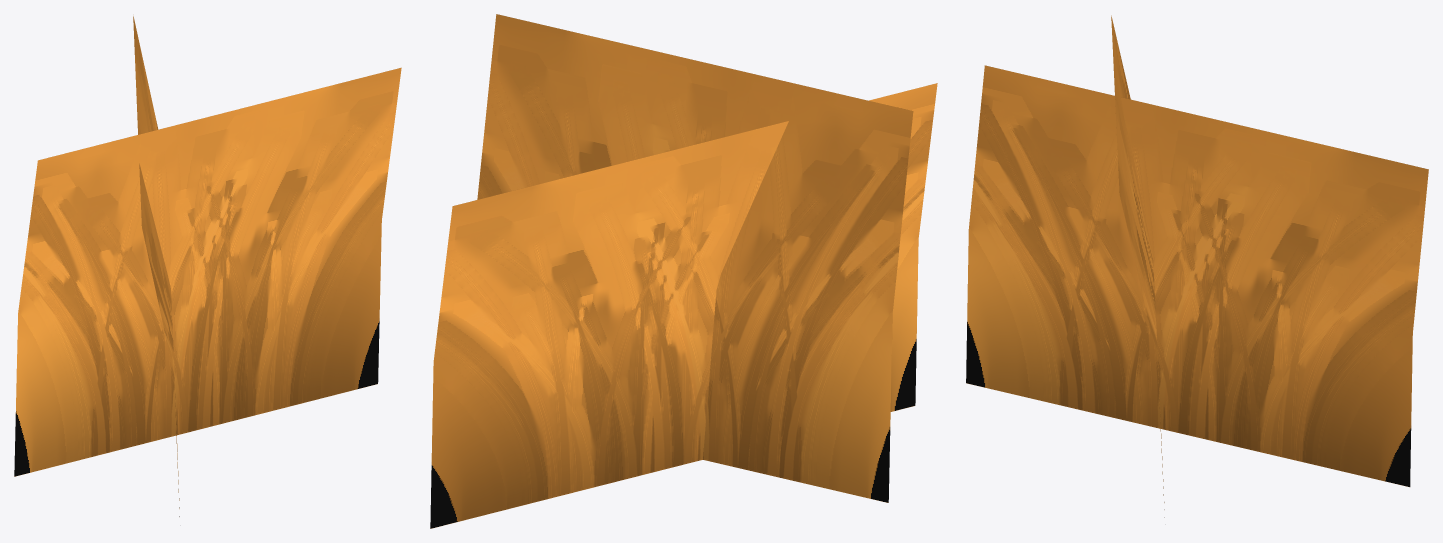
File: desert_grass_1_burnt1.glb
3 views of the same model, side by side, from view 1: azimuth 30°, elevation 25°; view 2: azimuth 150°, elevation 25°; view 3: azimuth 270°, elevation 25° (orthographic). The views are drawn at different scales.
Visible parts, largest first — view 1: desert_grass_1_burnt1; view 2: desert_grass_1_burnt1; view 3: desert_grass_1_burnt1.
Part boxes in pixels (x1=…): desert_grass_1_burnt1: x1=14, y1=16, x2=401, y2=516; desert_grass_1_burnt1: x1=430, y1=14, x2=937, y2=528; desert_grass_1_burnt1: x1=966, y1=15, x2=1428, y2=517.
Bounding box in the file's own units: 0.5267 × 0.4544 × 0.5693.
Materials: 1 (1 with a texture image).
